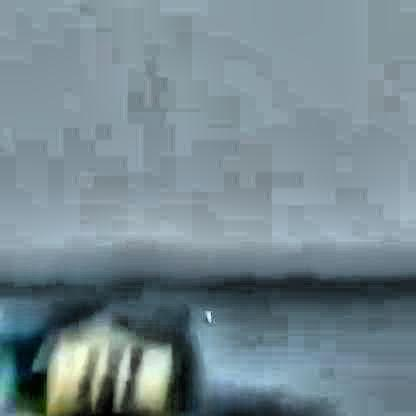golfball: (203, 307, 210, 318)
